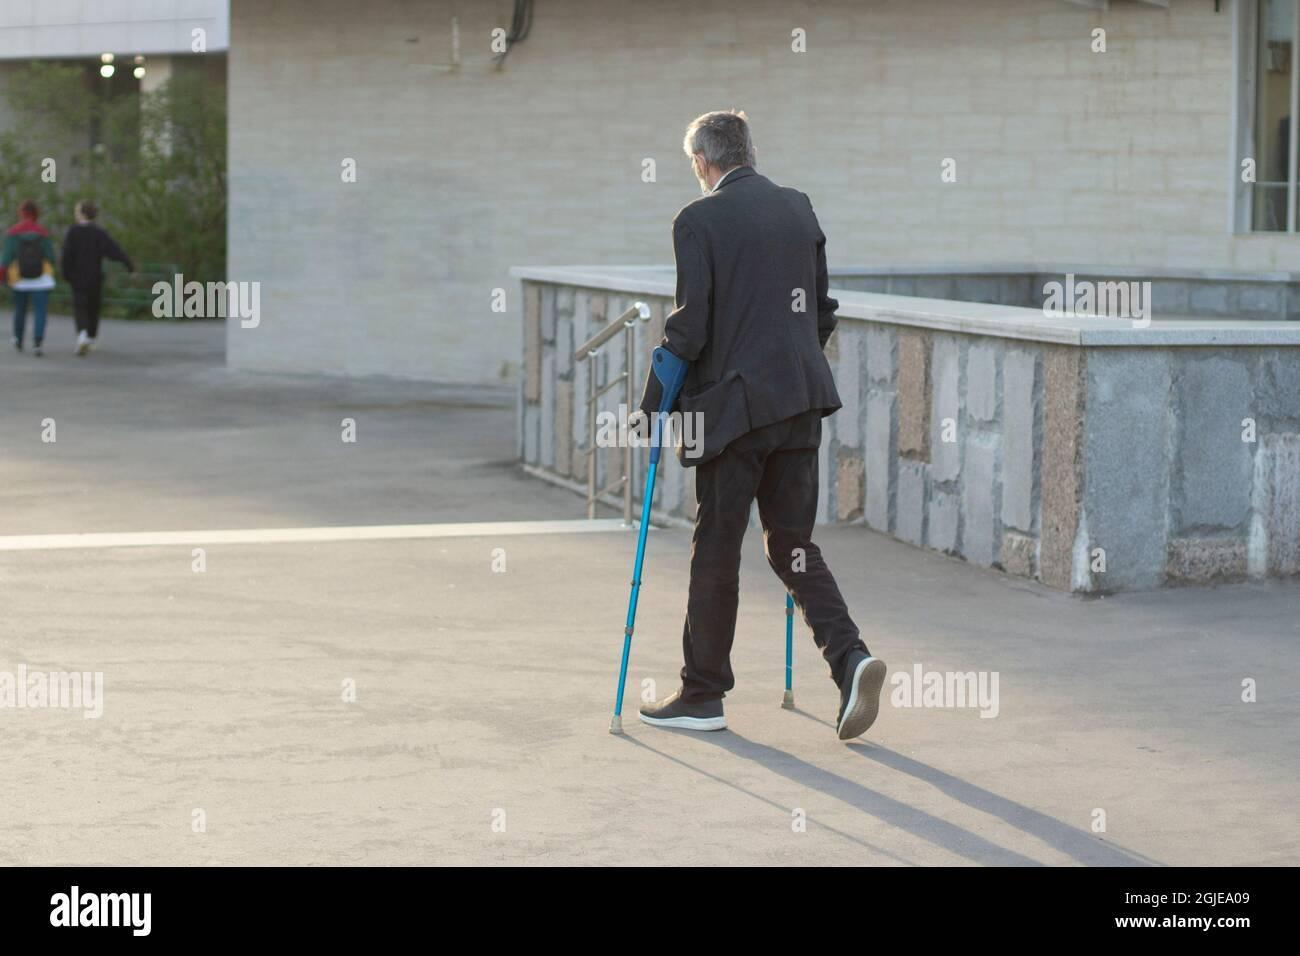crutches: (603, 96, 888, 764)
